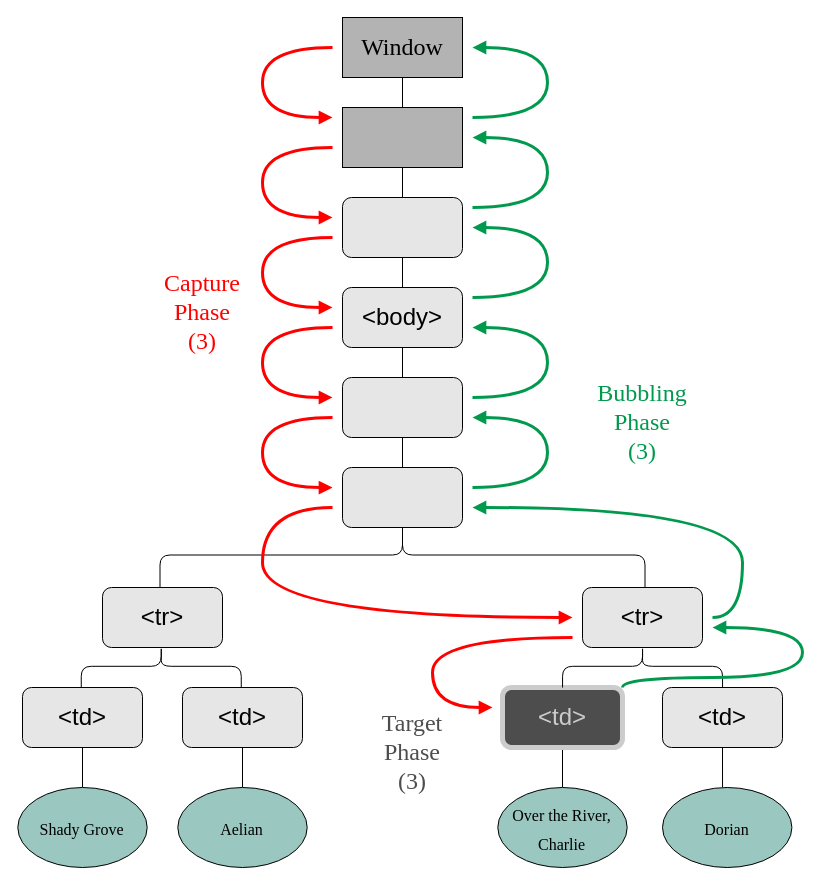
The diagram is 821 pixels wide and 885 high, and some of its shapes have lost their labels. Here are the shapes that lost their labels. From the top down, the centre of each, then its label:
point 402,137: Document
point 402,227: <html>
point 402,407: <table>
point 402,497: <tbody>
